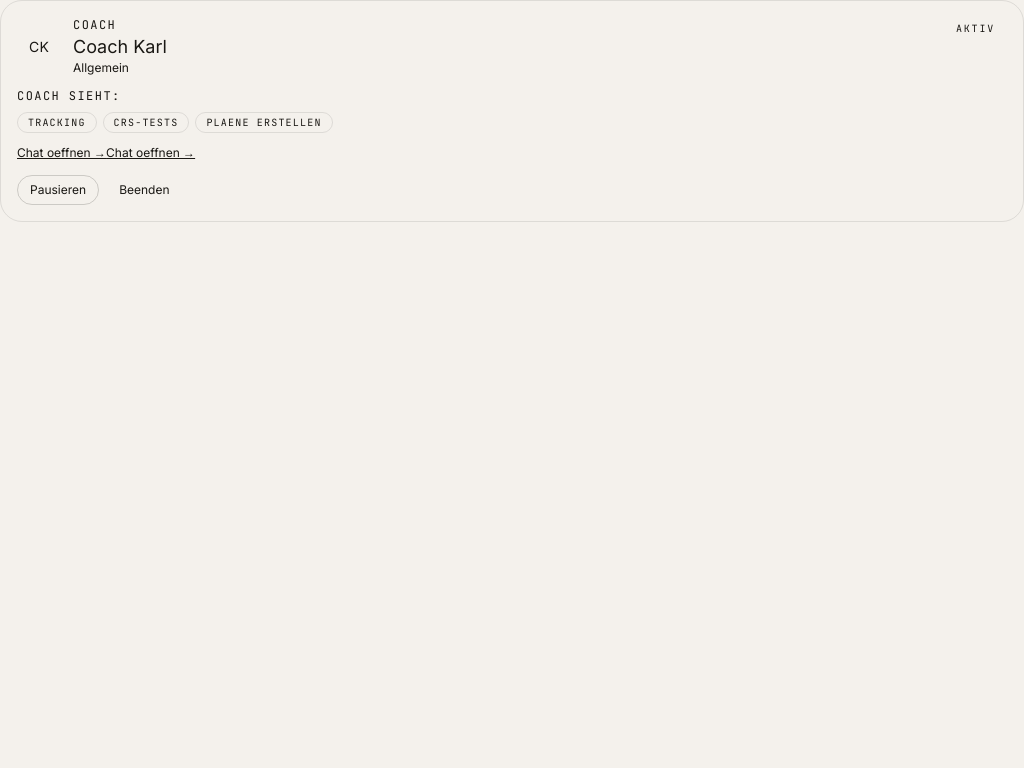
Test: EngagementsList › Beenden oeffnet Reauth-Modal, nicht direkt end.mutateAsync
Click the button "Beenden" at (144, 190), box [107,176,182,204]
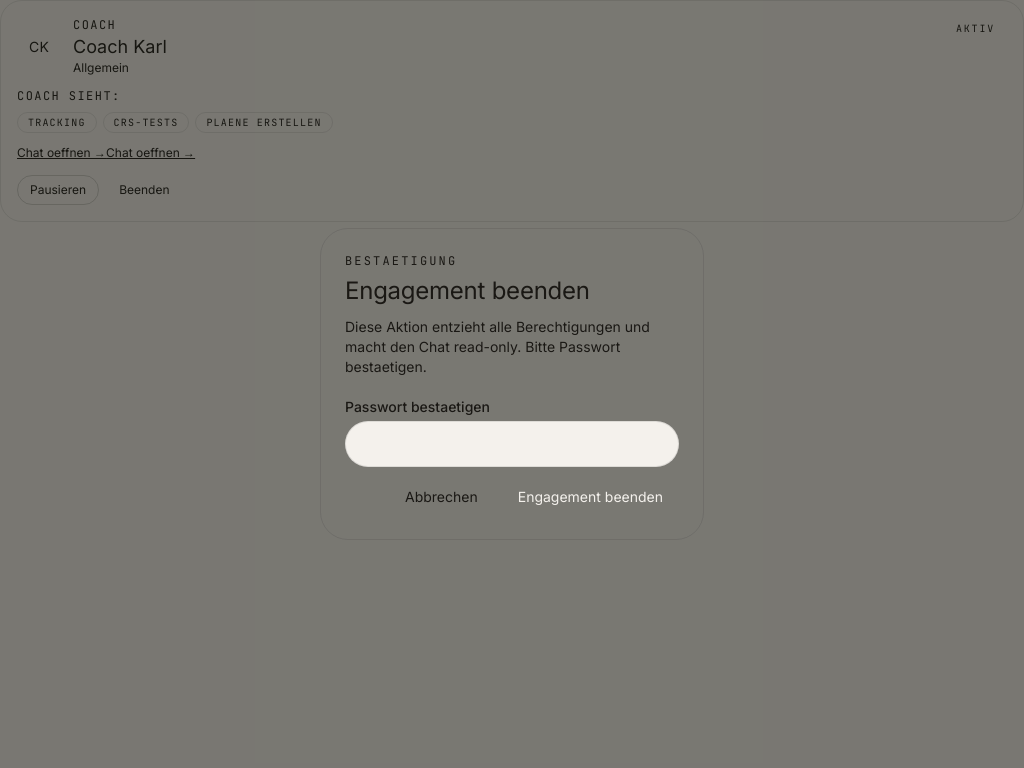
expect the dialog is shown: met
